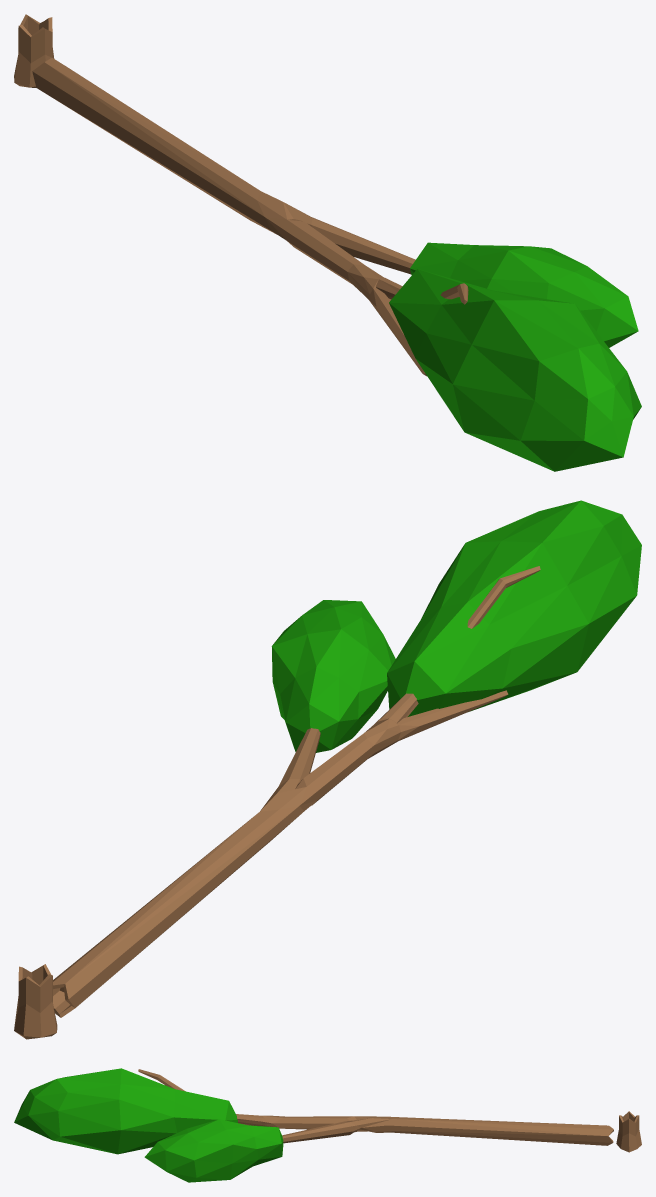
The model's file is Tree_6 Broken.fbx.
The picture shows the model from 3 angles, top to bottom: view 1: azimuth 30°, elevation 25°; view 2: azimuth 150°, elevation 25°; view 3: azimuth 270°, elevation 25°; orthographic projection. The views are drawn at different scales.
Visible parts, largest first — view 1: Tree6Broken_mesh; view 2: Tree6Broken_mesh; view 3: Tree6Broken_mesh.
Part boxes in pixels (x1=…): Tree6Broken_mesh: x1=14, y1=14, x2=641, y2=471; Tree6Broken_mesh: x1=14, y1=500, x2=641, y2=1039; Tree6Broken_mesh: x1=14, y1=1068, x2=641, y2=1182.
Size of the model in its own units: 153 by 95.82 by 682.
